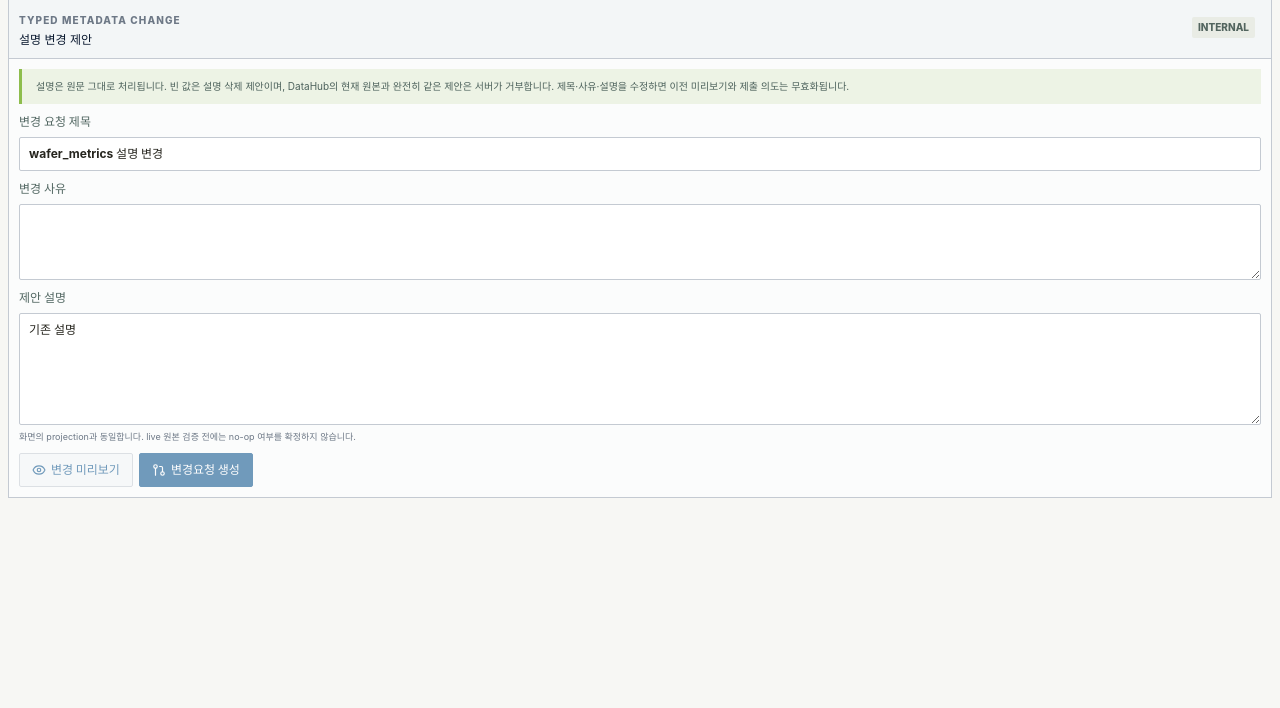
it: RegistrationDescriptionEditor › allows an explicit empty description as a clear proposal
The image size is (1280, 708).
Type "용어를 명확히 합니다." into the text box labelled "변경 사유".
click(640, 242); type("용어를 명확히 합니다.")  # box [19,204,1261,280]
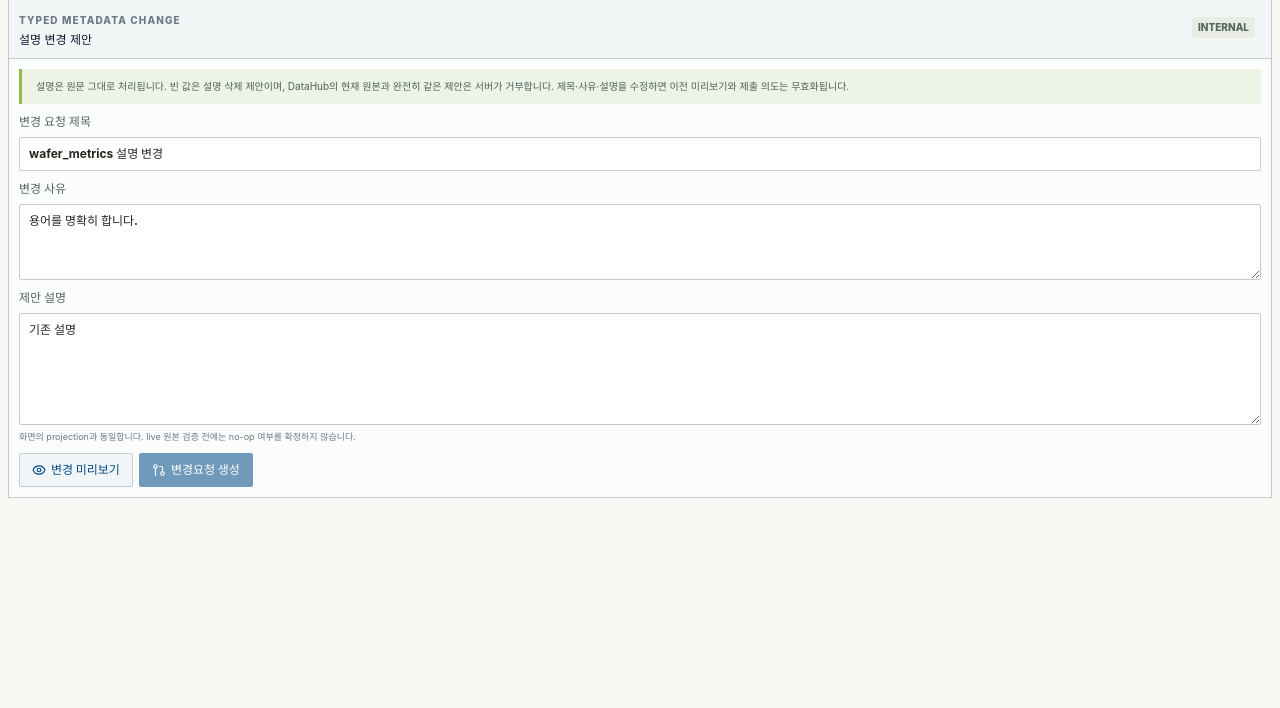
Clear the text box labelled "제안 설명" at (640, 369), box [19,313,1261,425]
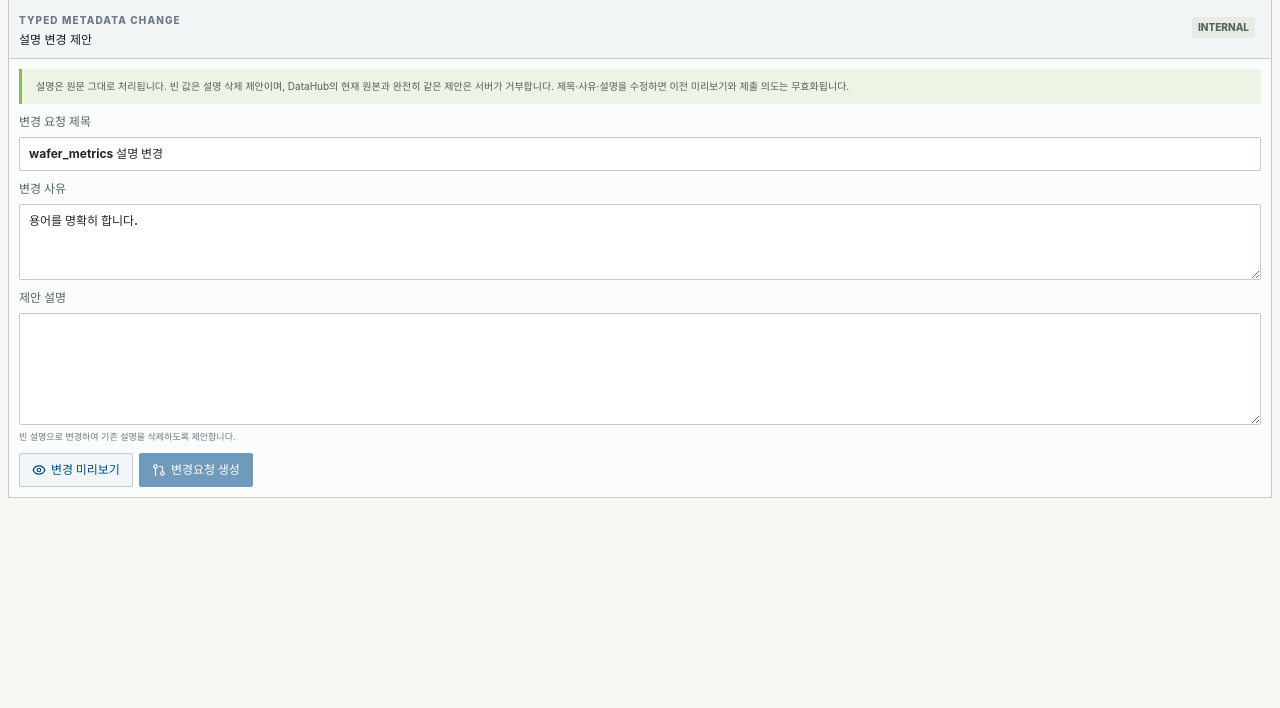
expect the text "빈 설명으로 변경하여 기존 설명을 삭제하도록 제안합니다." is shown: met, box [19,431,236,442]
Click the button "변경 미리보기".
click(76, 470)  # box [19,452,133,486]
(page scrolled)
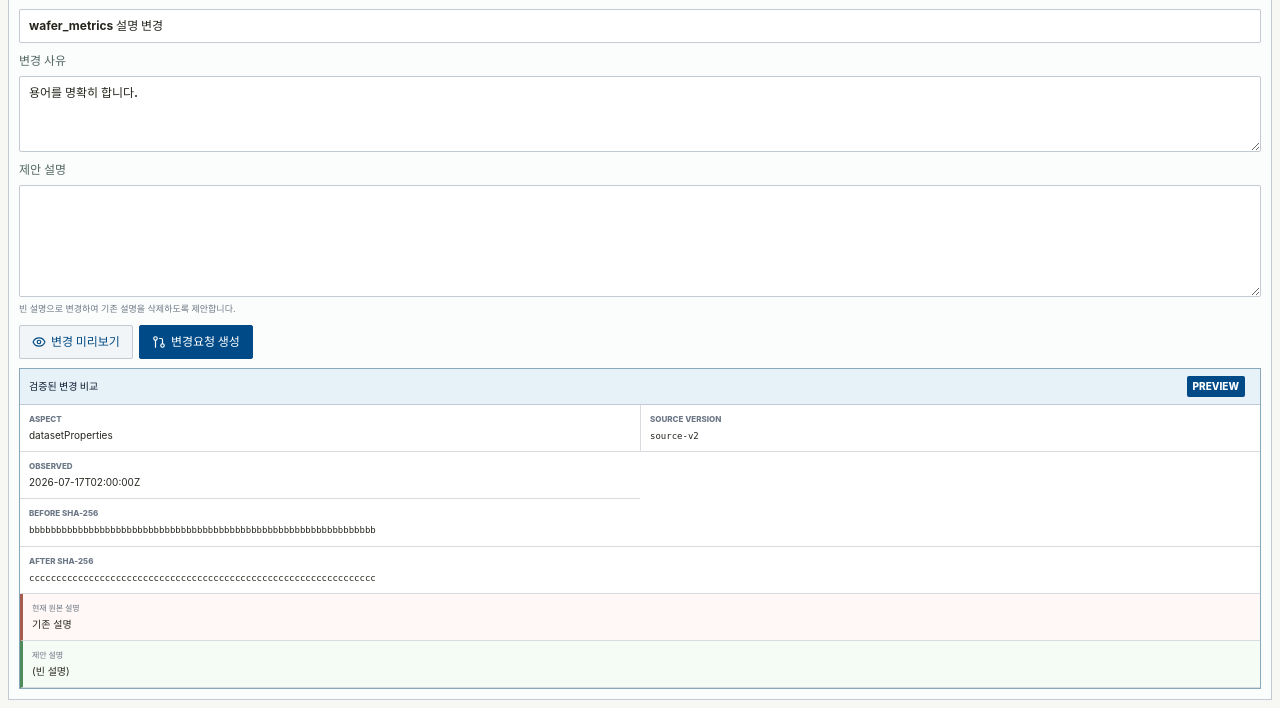
expect the element named "설명 변경 미리보기" is shown: met, box [19,368,1261,689]
expect the text "(빈 설명)" is shown: met, box [32,665,70,677]
